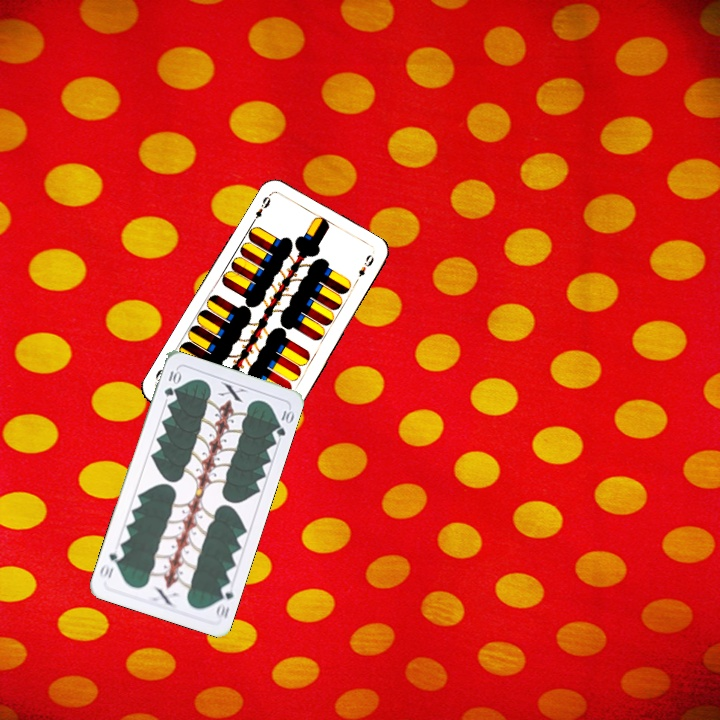E9: (248, 192, 273, 226)
G10: (212, 580, 236, 622), (160, 366, 183, 400)
